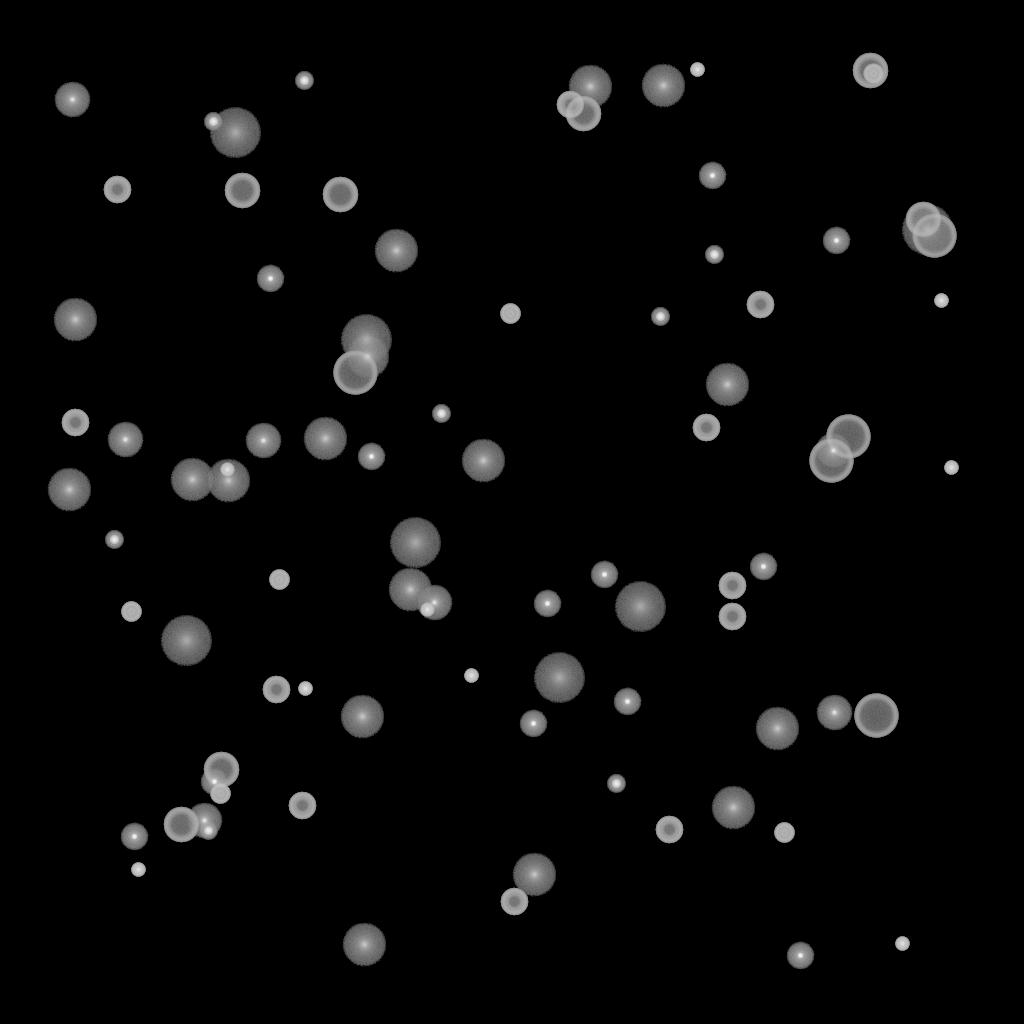depth:-10: (698, 162, 726, 190), (256, 265, 284, 293), (120, 823, 148, 851), (519, 710, 547, 738), (822, 227, 850, 255), (200, 768, 228, 796), (357, 443, 385, 471), (786, 942, 814, 970), (590, 561, 618, 589), (749, 553, 777, 581), (533, 590, 561, 618), (613, 688, 641, 716)
depth:-20: (295, 72, 313, 90), (432, 405, 450, 423), (204, 113, 222, 131), (105, 531, 123, 549), (199, 822, 217, 840), (607, 775, 625, 793), (651, 308, 669, 326), (705, 246, 723, 264)
depth:-30: (464, 669, 478, 683), (131, 863, 145, 877), (690, 63, 704, 77), (420, 603, 434, 617), (895, 937, 909, 951), (298, 682, 312, 696), (944, 461, 958, 475), (220, 463, 234, 477), (934, 294, 948, 308)
depth:-40: (500, 304, 520, 324), (774, 823, 794, 843), (210, 784, 230, 804), (121, 602, 141, 622), (269, 570, 289, 590), (863, 64, 883, 84)
depth:-50: (655, 816, 683, 844), (103, 176, 131, 204), (718, 572, 746, 600), (692, 414, 720, 442), (288, 792, 316, 820), (500, 888, 528, 916), (746, 291, 774, 319), (61, 409, 89, 437), (262, 676, 290, 704), (718, 603, 746, 631), (556, 91, 584, 119)
depth:-60: (322, 177, 358, 213), (565, 96, 601, 132), (852, 53, 888, 89), (905, 202, 941, 238), (203, 752, 239, 788), (163, 807, 199, 843), (224, 173, 260, 209)
depth:-70: (809, 439, 853, 483), (333, 351, 377, 395), (854, 694, 898, 738), (826, 415, 870, 459), (912, 214, 956, 258)
depth:0: (815, 433, 851, 469), (54, 82, 90, 118), (416, 585, 452, 621), (245, 423, 281, 459), (816, 695, 852, 731), (107, 422, 143, 458), (186, 803, 222, 839)
depth:10: (47, 468, 91, 512), (374, 229, 418, 273), (388, 568, 432, 612), (342, 923, 386, 967), (53, 298, 97, 342), (568, 65, 612, 109), (303, 417, 347, 461), (705, 363, 749, 407), (206, 459, 250, 503), (340, 695, 384, 739), (170, 458, 214, 502), (641, 64, 685, 108), (512, 853, 556, 897), (345, 335, 389, 379), (461, 439, 505, 483), (711, 786, 755, 830), (755, 707, 799, 751)
depth:20: (209, 108, 261, 158), (901, 205, 953, 255), (389, 518, 441, 568), (614, 582, 666, 632), (160, 616, 212, 666), (340, 315, 392, 365), (533, 653, 585, 703)
